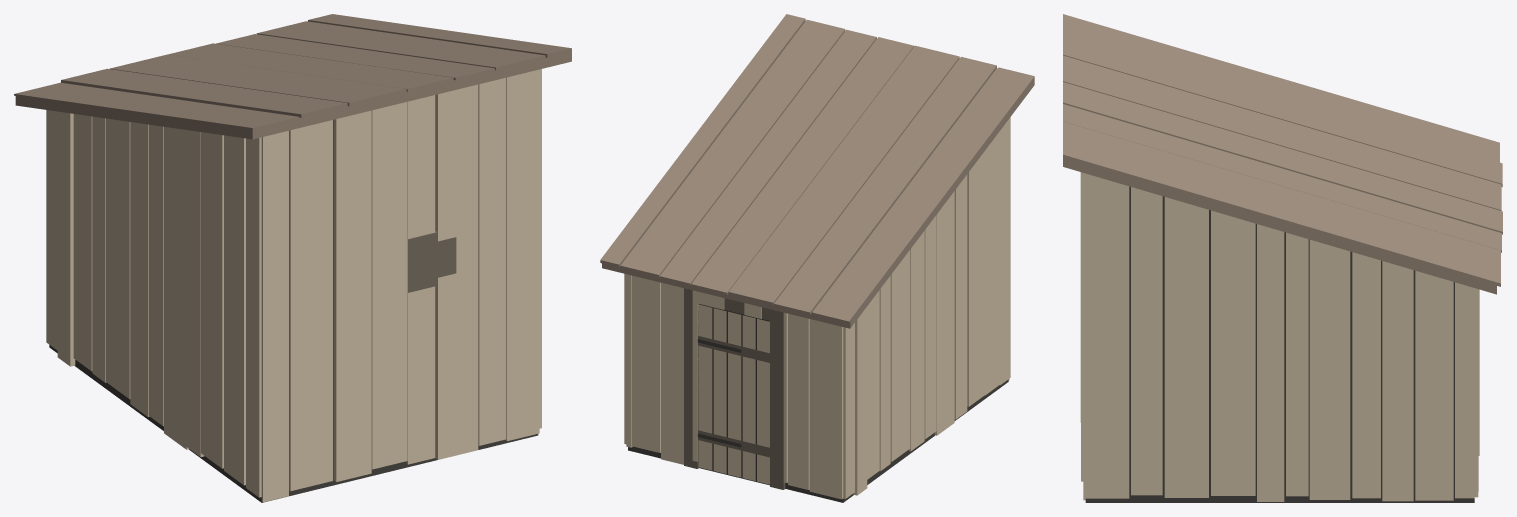
The model's file is recon_1835_north_a5_011__inferred_1835.glb.
3 renders of one model, left to right at view 1: azimuth 30°, elevation 25°; view 2: azimuth 150°, elevation 25°; view 3: azimuth 270°, elevation 25°, orthographic. The views are drawn at different scales.
Visible parts, largest first — view 1: recon_1835_north_a5_011__inferred_1835; view 2: recon_1835_north_a5_011__inferred_1835; view 3: recon_1835_north_a5_011__inferred_1835.
Boxes of the visible parts, x1,y1,x2,y2 form: recon_1835_north_a5_011__inferred_1835: (14,14,571,502); recon_1835_north_a5_011__inferred_1835: (600,14,1034,502); recon_1835_north_a5_011__inferred_1835: (1063,14,1502,502).
Bounding box in the file's own units: 2.94 × 3.45 × 3.84.
